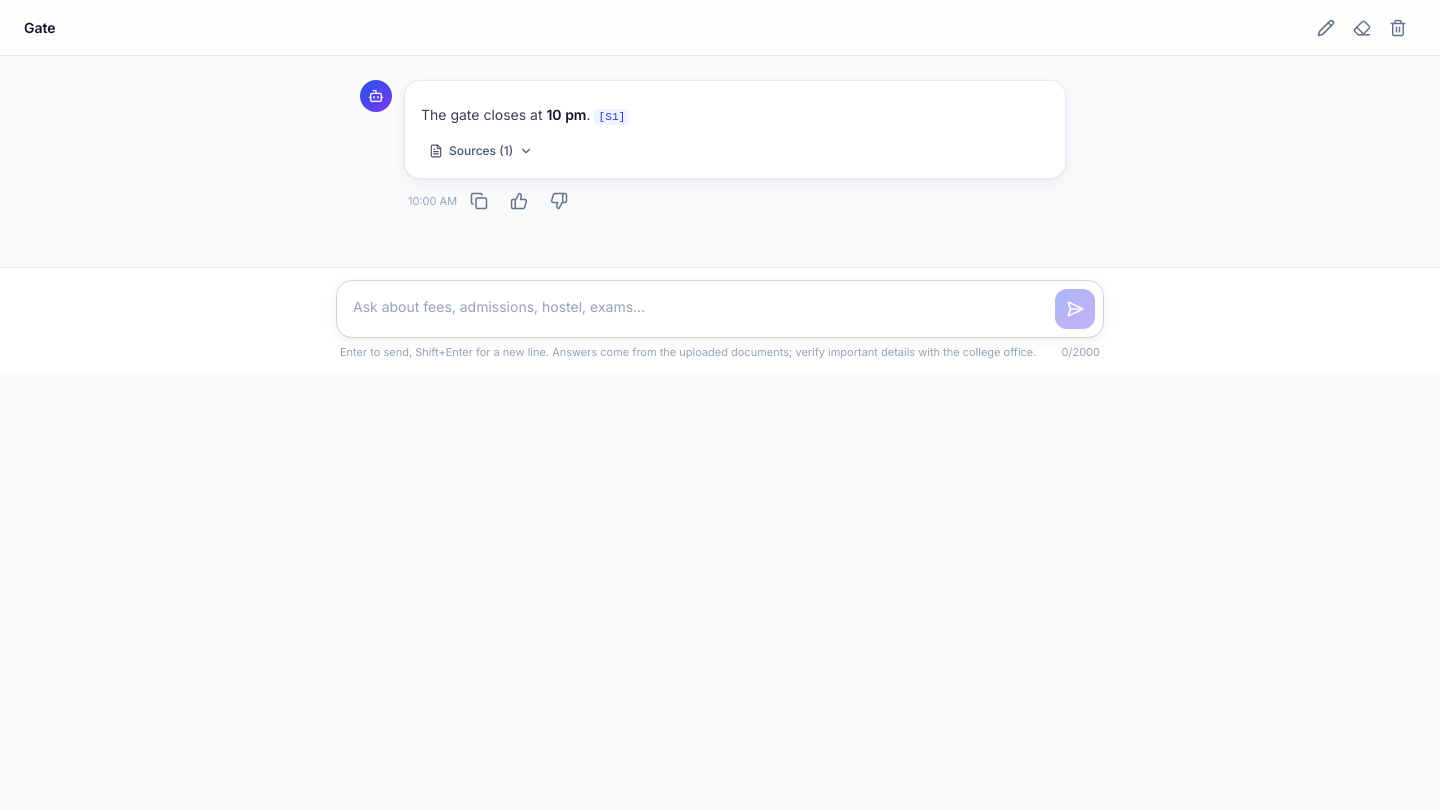
Scenario: Chat page › clears a chat only after confirmation
Click the button named "Clear chat": click(1362, 28) [1344,10,1380,46]
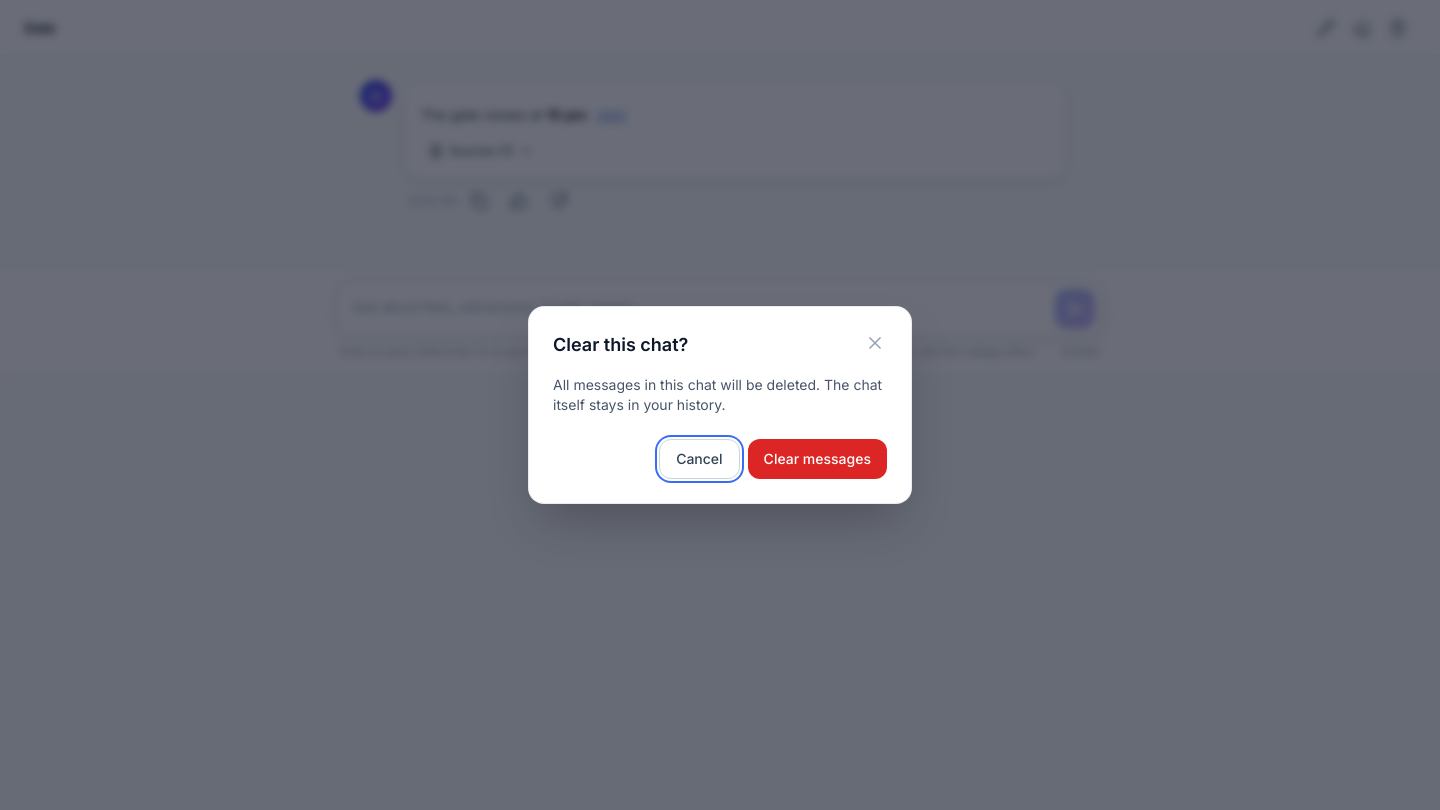
Click the button "Cancel": click(699, 459) [659,439,740,479]
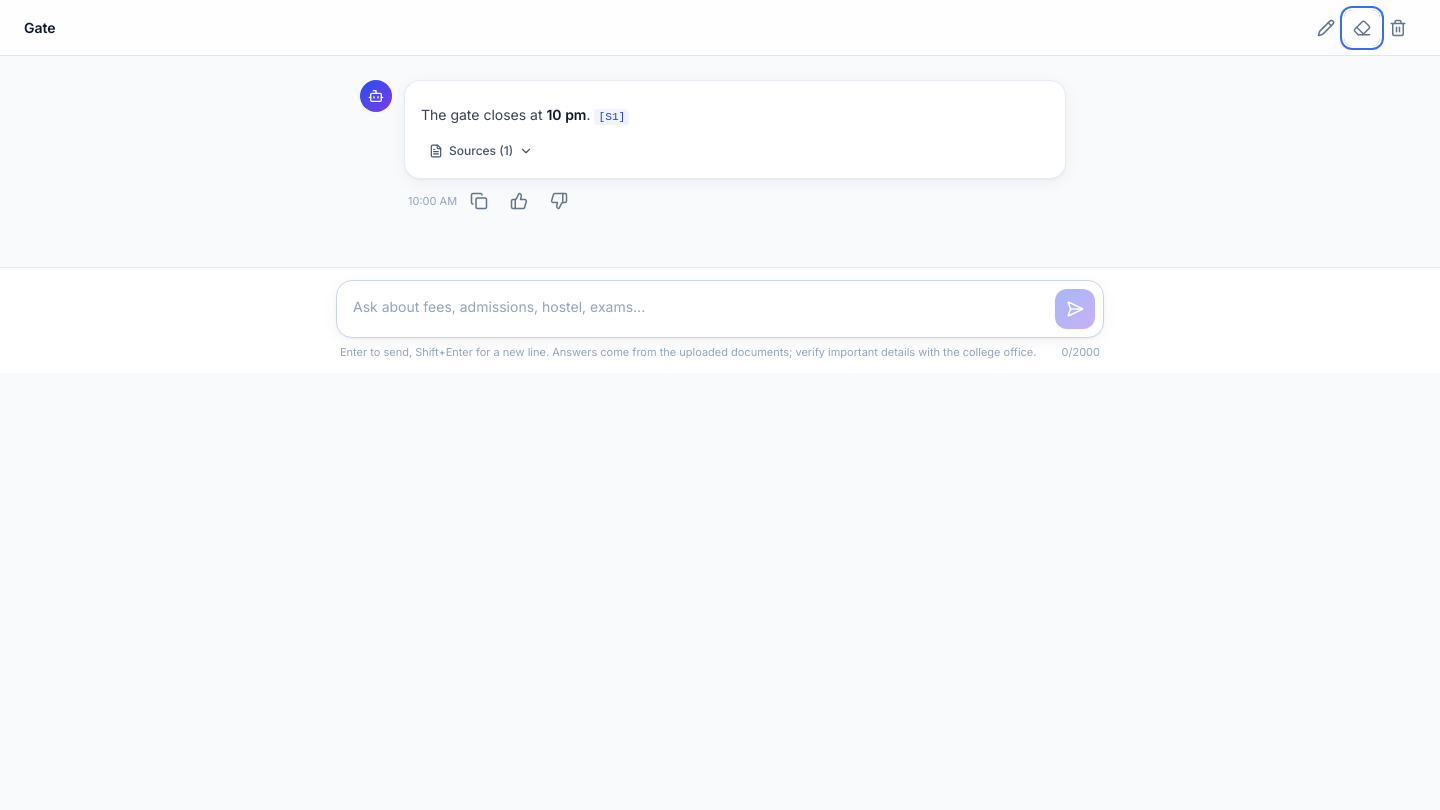
Check: the dialog is gone
Click the button named "Clear chat": click(1362, 28) [1344,10,1380,46]
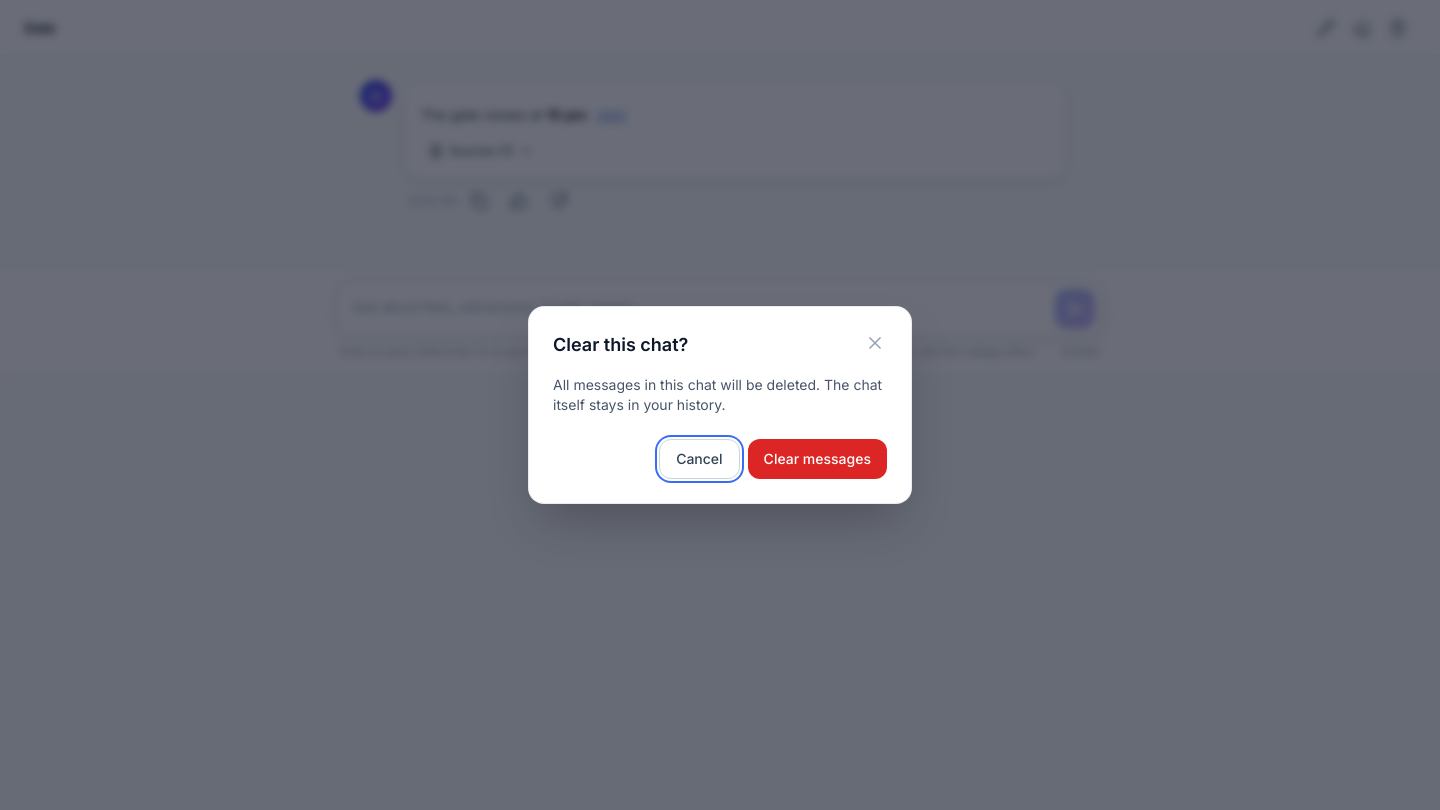
Click the button "Clear messages": click(817, 459) [748,439,887,479]
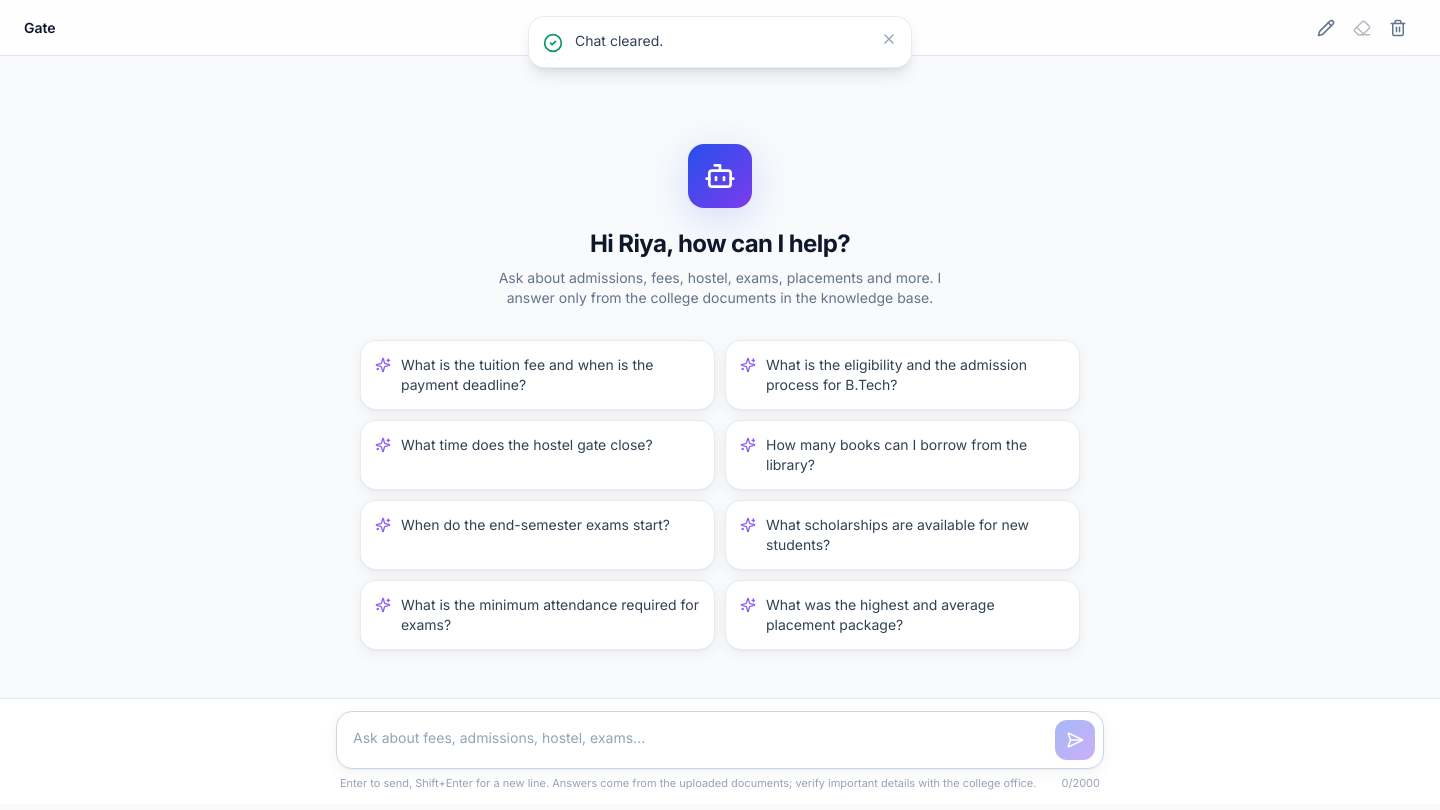
Check: the heading "Hi Riya, how can I help?" is shown, box [590,228,850,260]
